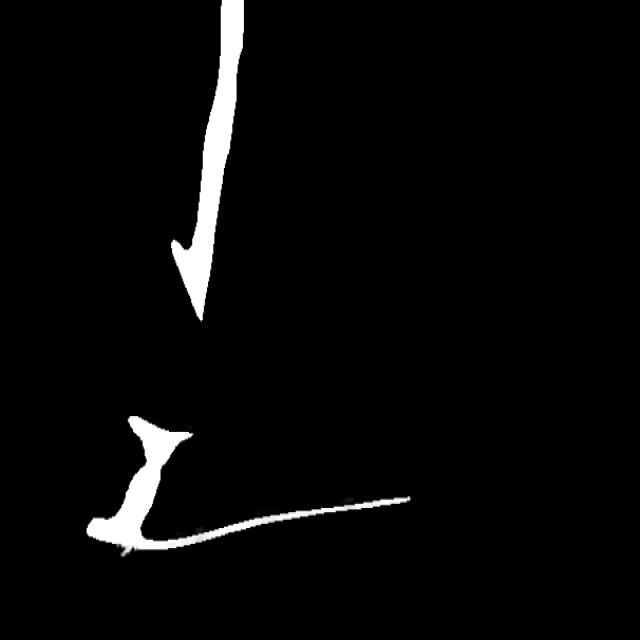sup_pli: (120, 543, 133, 564)
